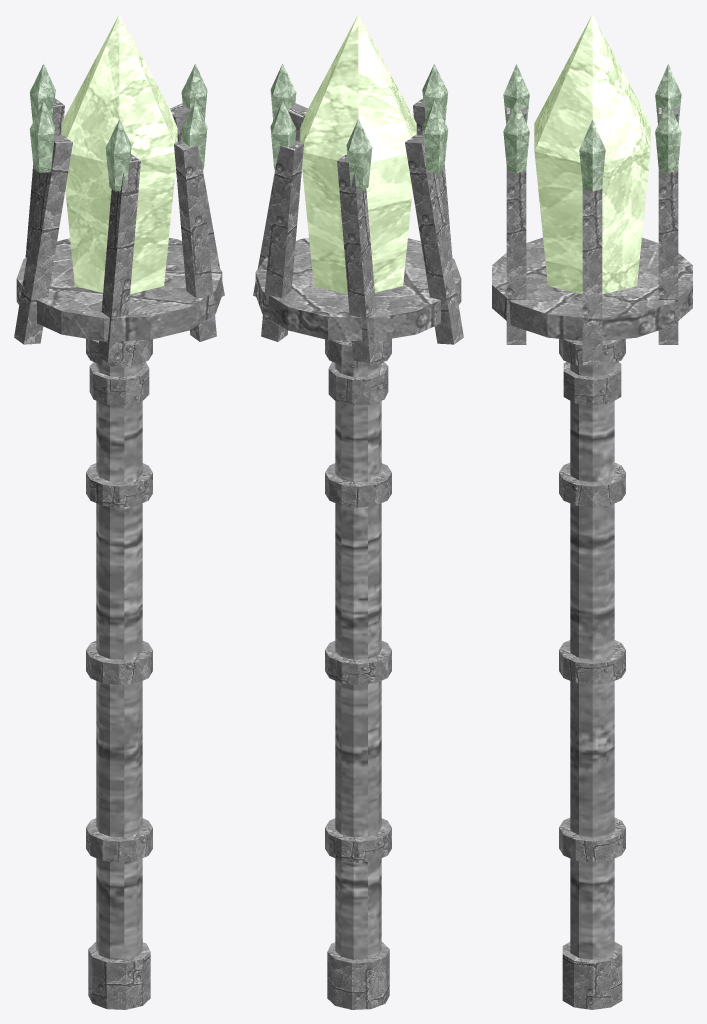
The model's file is staff-venom-master.glb.
3 views of the same model, side by side, from view 1: azimuth 30°, elevation 25°; view 2: azimuth 150°, elevation 25°; view 3: azimuth 270°, elevation 25° (orthographic).
Visible parts, largest first — view 1: shaft, master-core, master-halo, rib-3, rib-2, rib-1, pommel, shaft-band--0.48, shaft-band-0.28, shaft-band--0.1, neck-band, rib-crystal-3 (+7 smaller); view 2: shaft, master-core, master-halo, rib-3, rib-4, rib-5, pommel, shaft-band--0.48, shaft-band-0.28, shaft-band--0.1, neck-band, rib-crystal-3 (+7 smaller); view 3: shaft, master-core, master-halo, rib-0, pommel, rib-1, rib-5, shaft-band--0.48, shaft-band--0.1, shaft-band-0.28, neck-band, rib-crystal-1 (+5 smaller).
Boxes of the visible parts, bbox=[...] form: shaft: bbox=[96, 341, 142, 959]; master-core: bbox=[61, 14, 177, 294]; master-halo: bbox=[16, 238, 222, 341]; rib-3: bbox=[14, 135, 72, 344]; rib-2: bbox=[98, 154, 140, 362]; rib-1: bbox=[174, 140, 216, 341]; pommel: bbox=[88, 942, 150, 1009]; shaft-band--0.48: bbox=[86, 818, 152, 862]; shaft-band-0.28: bbox=[86, 463, 152, 507]; shaft-band--0.1: bbox=[86, 641, 152, 685]; neck-band: bbox=[89, 361, 149, 405]; rib-crystal-3: bbox=[29, 101, 55, 172]; shaft: bbox=[335, 341, 381, 959]; master-core: bbox=[300, 14, 416, 294]; master-halo: bbox=[255, 238, 461, 341]; rib-3: bbox=[405, 135, 463, 344]; rib-4: bbox=[337, 154, 379, 362]; rib-5: bbox=[261, 140, 303, 341]; pommel: bbox=[327, 942, 389, 1009]; shaft-band--0.48: bbox=[325, 818, 391, 862]; shaft-band-0.28: bbox=[325, 463, 391, 507]; shaft-band--0.1: bbox=[325, 641, 391, 685]; neck-band: bbox=[328, 361, 388, 405]; rib-crystal-3: bbox=[422, 101, 448, 172]; shaft: bbox=[570, 363, 614, 959]; master-core: bbox=[534, 14, 650, 294]; master-halo: bbox=[492, 237, 692, 340]; rib-0: bbox=[582, 188, 602, 365]; pommel: bbox=[562, 942, 622, 1009]; rib-1: bbox=[506, 168, 526, 344]; rib-5: bbox=[658, 168, 678, 344]; shaft-band--0.48: bbox=[559, 817, 625, 862]; shaft-band--0.1: bbox=[559, 640, 625, 684]; shaft-band-0.28: bbox=[559, 463, 625, 507]; neck-band: bbox=[563, 362, 621, 405]; rib-crystal-1: bbox=[503, 101, 529, 173].
Size of the model in its own units: 0.4504 by 2.1 by 0.39.
Materials: 4 (4 with a texture image).
